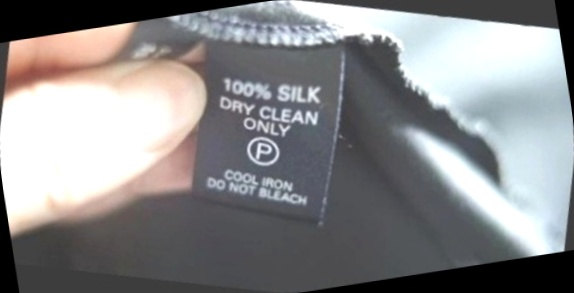dry_clean_any_solvent_except_trichloroethylene: (241, 128, 288, 173)
